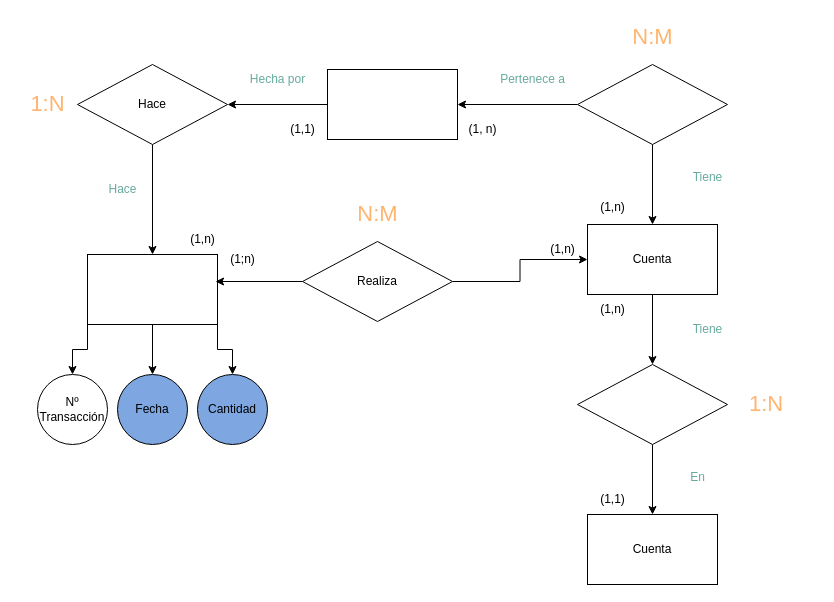
Some shapes in this 834 by 602 pixel diagram are drawn without their labels. The shapes that lost their labels are listed below. From the top down, each one's box as (x1, y1, x2, y2) in pixels, then its label:
(326, 68, 458, 140): Cliente
(576, 64, 728, 144): Tener
(86, 254, 218, 324): Transacción
(576, 364, 728, 444): Está
